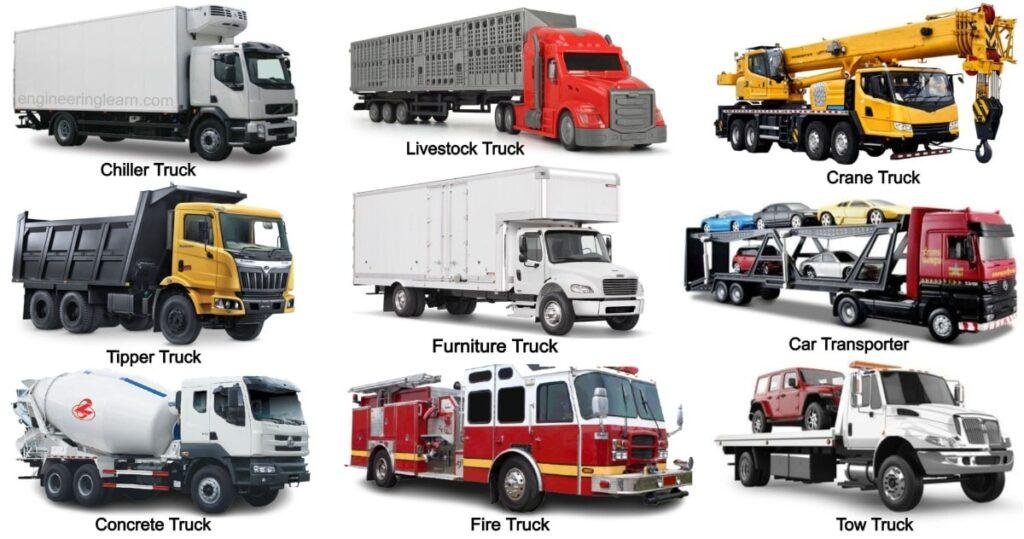car: (747, 367, 844, 432), (817, 200, 910, 226), (800, 250, 880, 280), (732, 246, 791, 274), (754, 202, 817, 228), (702, 209, 754, 232)
truck: (351, 358, 696, 513), (351, 164, 644, 337), (684, 199, 1018, 344), (712, 7, 1015, 163), (348, 5, 668, 150), (11, 187, 297, 345), (714, 362, 1013, 512), (12, 5, 298, 160), (12, 373, 310, 516)
